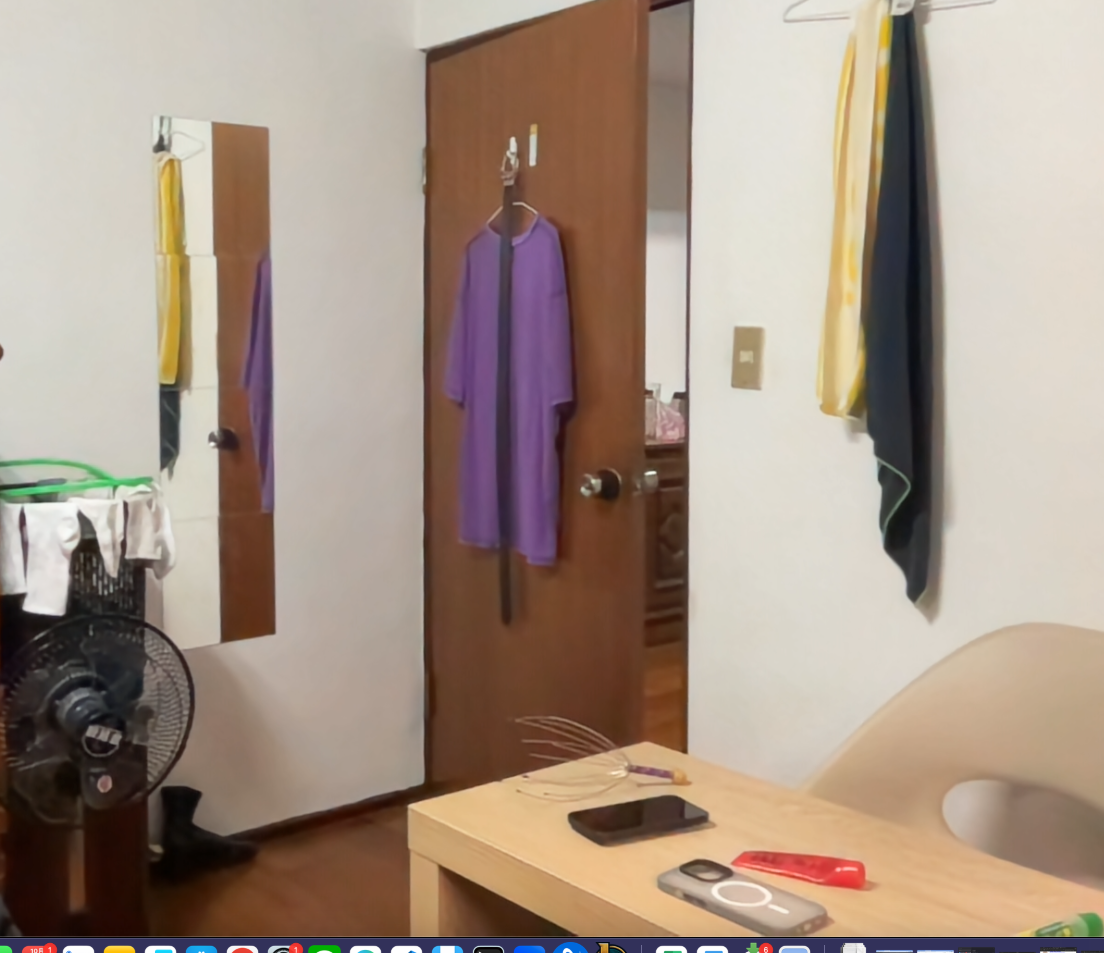Door Close: (392, 31, 713, 689)
